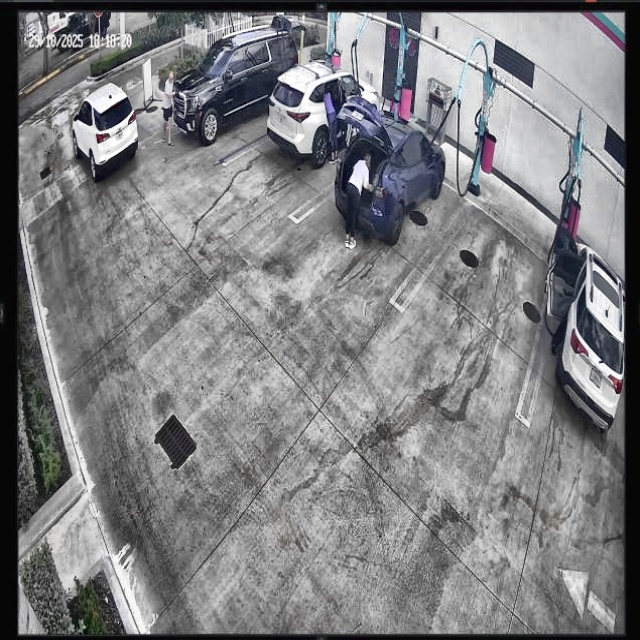Car: (334, 98, 446, 244), (268, 62, 379, 163), (72, 84, 138, 180)
